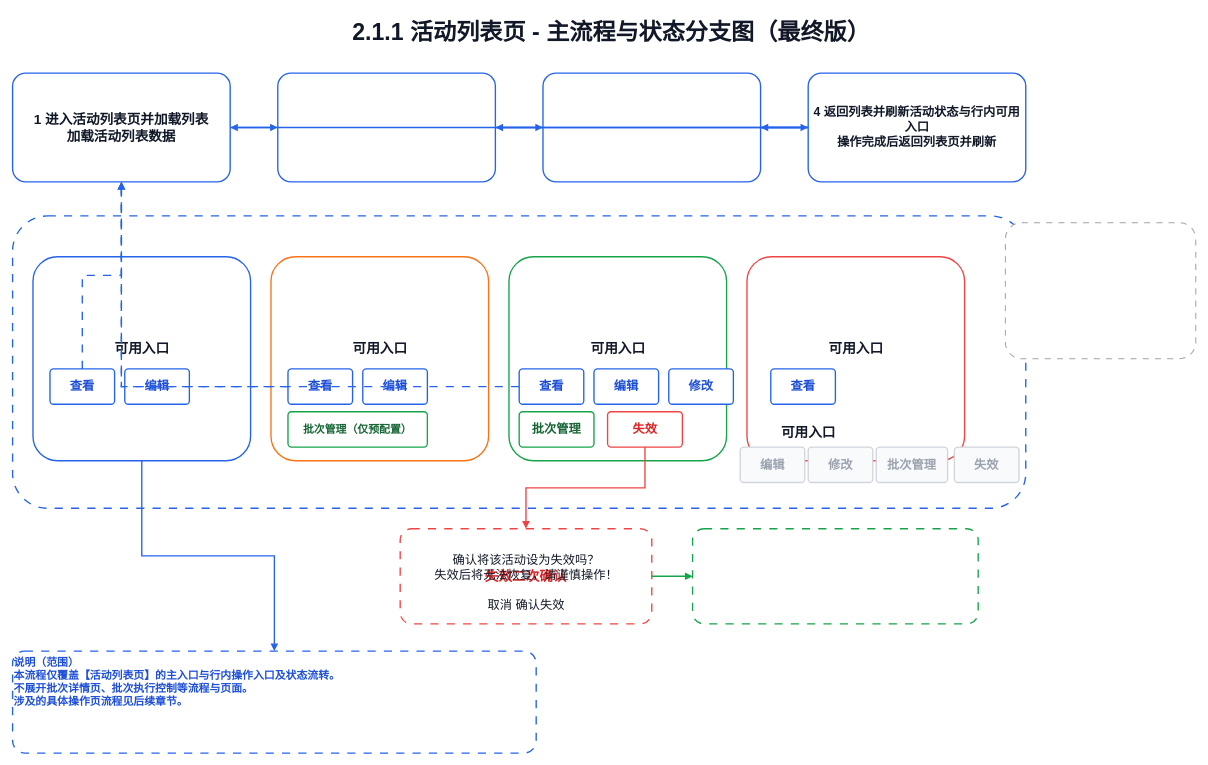
The diagram is 1208 pixels wide and 765 high, and some of its shapes have lost their labels. The box of each missing label's shape, as (x1, y1, x2, y2) in pixels:
2 查询条件筛选 在列表页内使用查询条件筛选 并刷新结果（不跳转页面）: (277, 72, 496, 182)
3 在列表中按状态分发入口 （入口按钮由活动状态驱动）: (542, 72, 761, 182)
图例说明 → 主流程 ↘ 返回流程 ↓ 状态分支: (1005, 222, 1196, 359)
失效成功，状态更新为【已失效】 系统已将活动状态更新为【已失效】 操作日志已记录: (692, 528, 979, 624)
审批中 已提交，待审批: (270, 256, 489, 461)
已失效 已失效，不可使用: (746, 256, 965, 461)
按活动状态展示可用入口 仅显示当前状态下可用的操作入口: (12, 215, 1026, 509)
生效中 已生效，可使用: (508, 256, 727, 461)
草稿 未提交审批: (32, 256, 251, 461)
